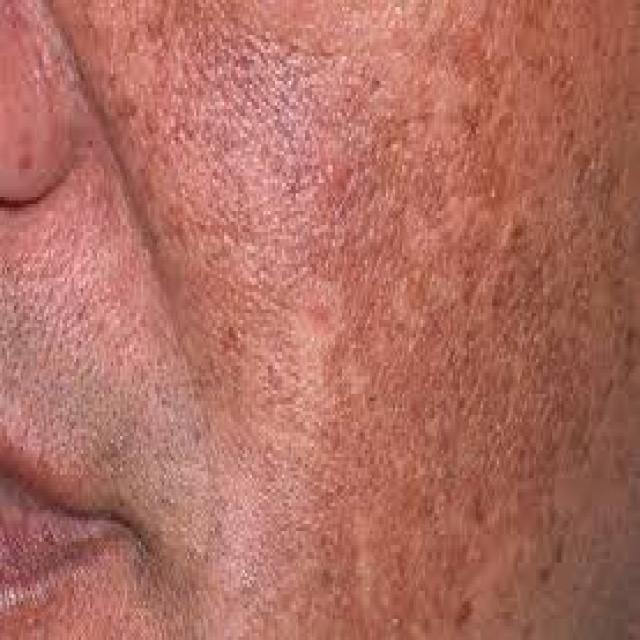pigmentation: (192, 56, 560, 499)
